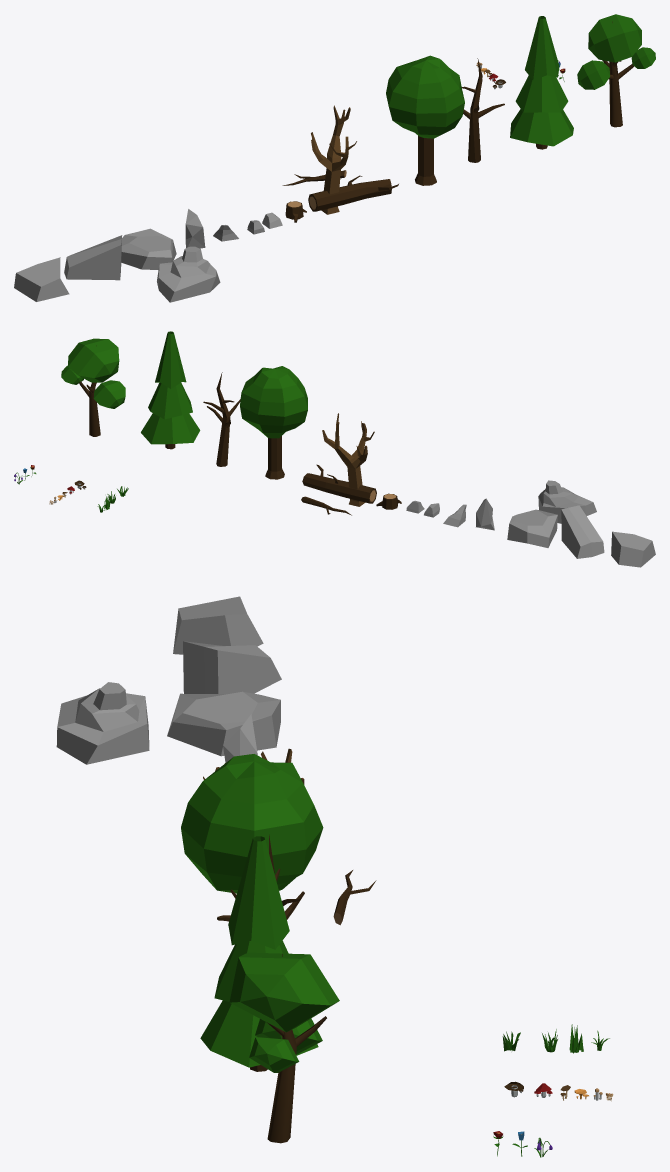
File: uploads_files_2080519_nature.fbx
3 renders of one model, top to bottom at view 1: azimuth 30°, elevation 25°; view 2: azimuth 150°, elevation 25°; view 3: azimuth 270°, elevation 25°, orthographic. The views are drawn at different scales.
Visible parts, largest first — view 1: tree2, christmas tree, tree_1, rock.004, rock.007, rock.002, rock.003, rock.008, tree_dead2, tree_dead, rock.005; view 2: tree2, christmas tree, tree_1, rock.007, rock.002, rock.003, rock.008, rock.004, tree_dead2, tree_dead, rock.005; view 3: tree2, tree_1, christmas tree, rock.004, rock.002, rock.007, rock.003, rock.005.
Part boxes in pixels (bbox=[...]): tree2: bbox=[386, 55, 464, 185]; christmas tree: bbox=[510, 16, 573, 149]; tree_1: bbox=[577, 14, 655, 127]; rock.004: bbox=[157, 246, 220, 302]; rock.007: bbox=[64, 235, 122, 280]; rock.002: bbox=[121, 228, 176, 270]; rock.003: bbox=[14, 257, 69, 301]; rock.008: bbox=[311, 105, 356, 214]; tree_dead2: bbox=[308, 175, 398, 211]; tree_dead: bbox=[461, 58, 504, 162]; rock.005: bbox=[185, 209, 205, 248]; tree2: bbox=[240, 366, 307, 479]; christmas tree: bbox=[141, 331, 200, 449]; tree_1: bbox=[61, 338, 125, 436]; rock.007: bbox=[561, 505, 604, 558]; rock.002: bbox=[507, 509, 557, 547]; rock.003: bbox=[611, 531, 655, 567]; rock.008: bbox=[322, 413, 374, 506]; rock.004: bbox=[538, 480, 596, 523]; tree_dead2: bbox=[302, 464, 376, 503]; tree_dead: bbox=[203, 372, 240, 466]; rock.005: bbox=[476, 498, 494, 530]; tree2: bbox=[181, 754, 323, 893]; tree_1: bbox=[229, 952, 339, 1143]; christmas tree: bbox=[200, 836, 318, 1071]; rock.004: bbox=[56, 682, 149, 764]; rock.002: bbox=[167, 691, 280, 756]; rock.007: bbox=[183, 641, 281, 694]; rock.003: bbox=[173, 596, 263, 654]; rock.005: bbox=[223, 714, 257, 762].
Bounding box in the file's own units: 3026 × 632 × 1276.
